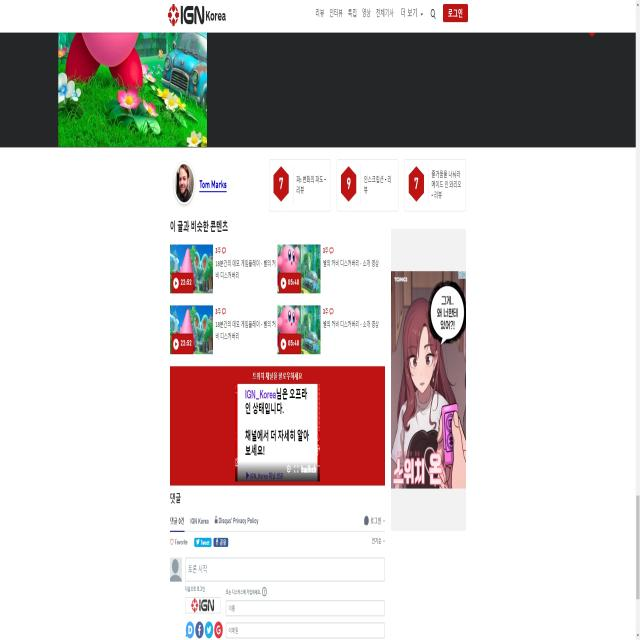menu-bar: (313, 1, 471, 21)
tab-bar: (168, 512, 386, 534)
